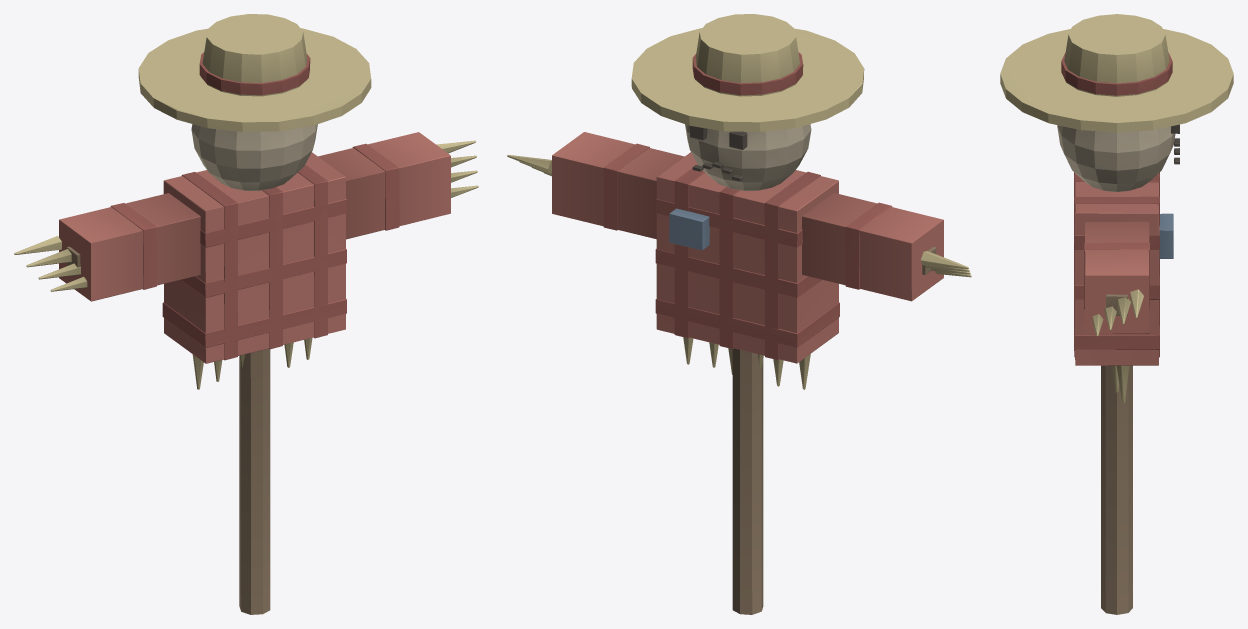
Rendered from farm_scarecrow_low.glb.
The picture shows the model from 3 angles, left to right: view 1: azimuth 30°, elevation 25°; view 2: azimuth 150°, elevation 25°; view 3: azimuth 270°, elevation 25°; orthographic projection.
Size of the model in its own units: 1.64 by 1.95 by 0.7189.
